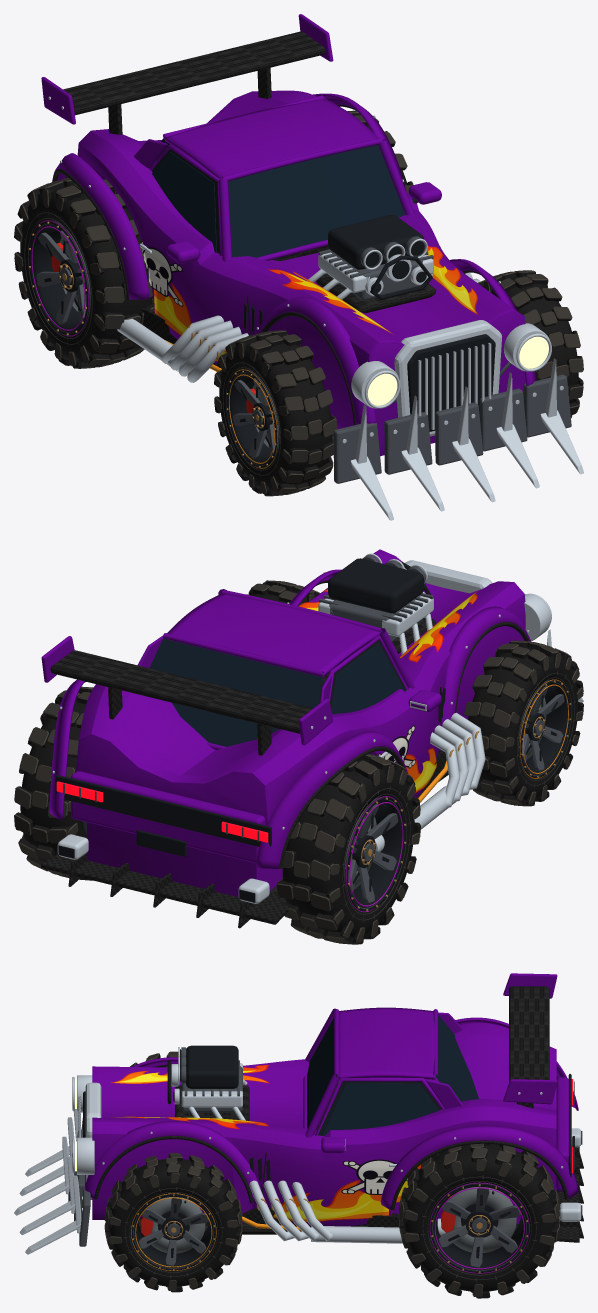
The model's file is 15_purple_hotrod.glb.
3 views of the same model, one above another, from view 1: azimuth 30°, elevation 25°; view 2: azimuth 150°, elevation 25°; view 3: azimuth 270°, elevation 25° (orthographic). The views are drawn at different scales.
Visible parts, largest first — view 1: Vehicle_Static_Body, Wheel_RL_Geometry, Wheel_FL_Geometry, Wheel_FR_Geometry; view 2: Vehicle_Static_Body, Wheel_RL_Geometry, Wheel_FL_Geometry, Wheel_RR_Geometry, Wheel_FR_Geometry; view 3: Vehicle_Static_Body, Wheel_RR_Geometry, Wheel_FR_Geometry.
Boxes of the visible parts, <box> form: Vehicle_Static_Body: <box>41,14,583,520</box>; Wheel_RL_Geometry: <box>14,177,153,368</box>; Wheel_FL_Geometry: <box>214,330,337,496</box>; Wheel_FR_Geometry: <box>478,270,583,418</box>; Vehicle_Static_Body: <box>41,549,583,928</box>; Wheel_RL_Geometry: <box>276,754,420,944</box>; Wheel_FL_Geometry: <box>464,640,583,806</box>; Wheel_RR_Geometry: <box>14,686,93,880</box>; Wheel_FR_Geometry: <box>246,580,320,605</box>; Vehicle_Static_Body: <box>14,973,583,1254</box>; Wheel_RR_Geometry: <box>399,1143,560,1298</box>; Wheel_FR_Geometry: <box>104,1153,242,1292</box>.
Size of the model in its own units: 2.85 by 2.1 by 5.18.
Materials: 22 (8 with a texture image).
